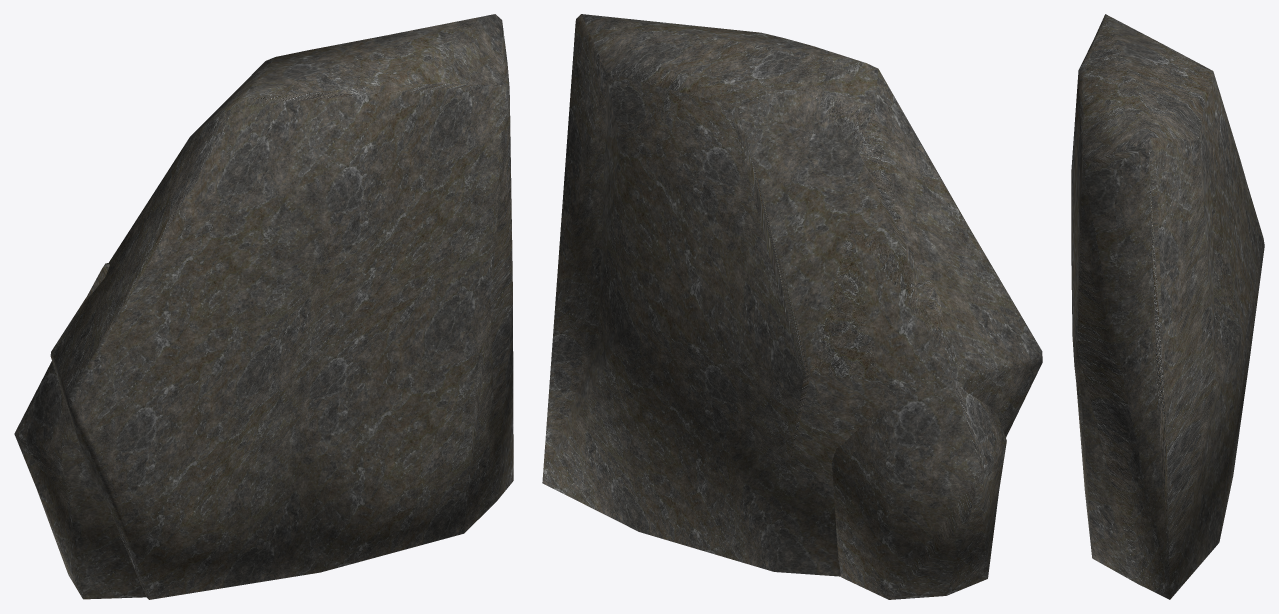
File: cliff_slab_LOD2.fbx
3 views of the same model, side by side, from view 1: azimuth 30°, elevation 25°; view 2: azimuth 150°, elevation 25°; view 3: azimuth 270°, elevation 25° (orthographic). The views are drawn at different scales.
Visible parts, largest first — view 1: cliff_slab_LOD2; view 2: cliff_slab_LOD2; view 3: cliff_slab_LOD2.
Part boxes in pixels (x1,y1,x2,y2): cliff_slab_LOD2: (14,14,513,599); cliff_slab_LOD2: (542,14,1042,599); cliff_slab_LOD2: (1071,14,1264,599).
Bounding box in the file's own units: 500 × 480 × 187.
